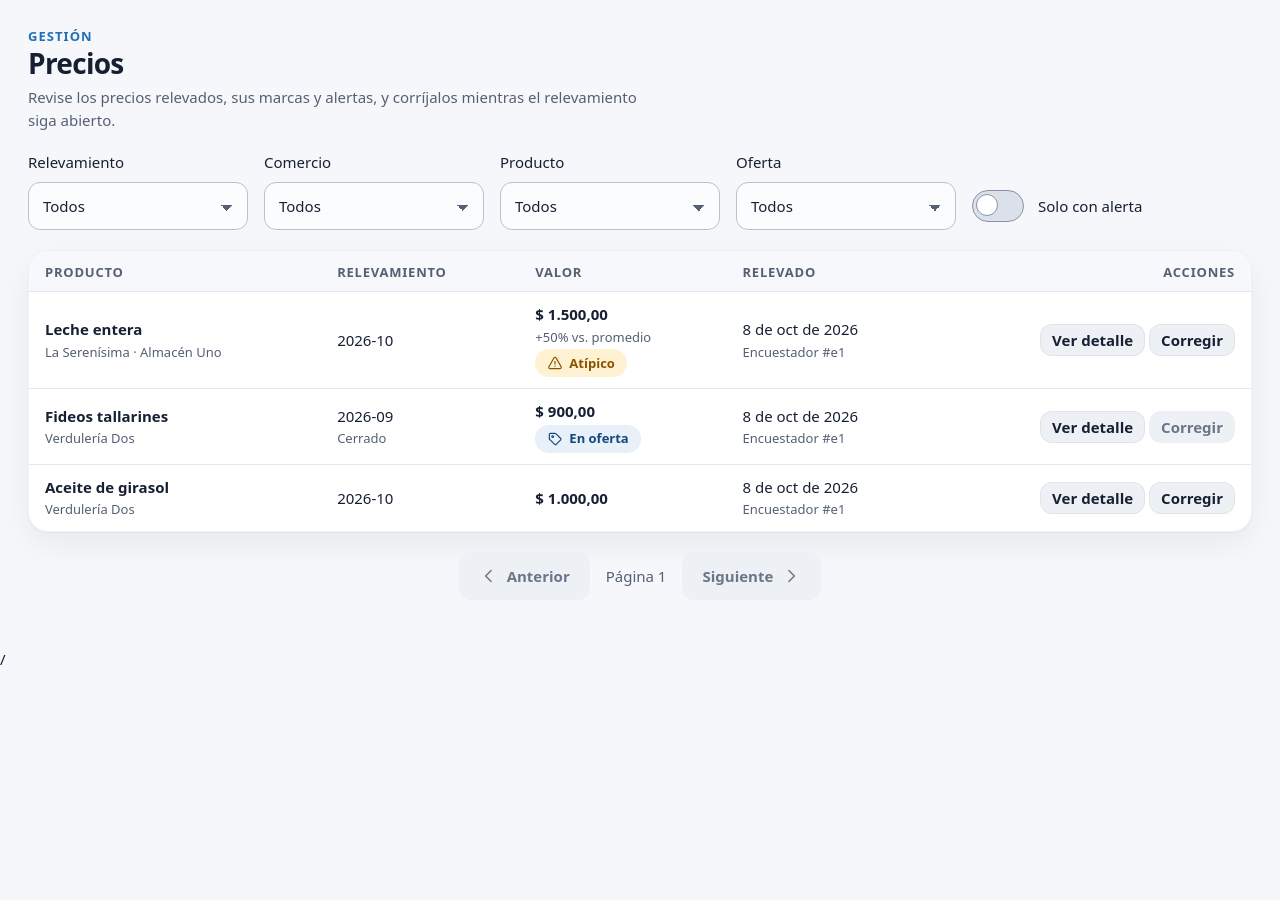
Test: correction › maps a 400 on valor back onto the field
This screenshot has width=1280, height=900.
Click the button "Corregir" in the row of "Leche entera".
click(1192, 340)  # box [1149, 324, 1235, 356]
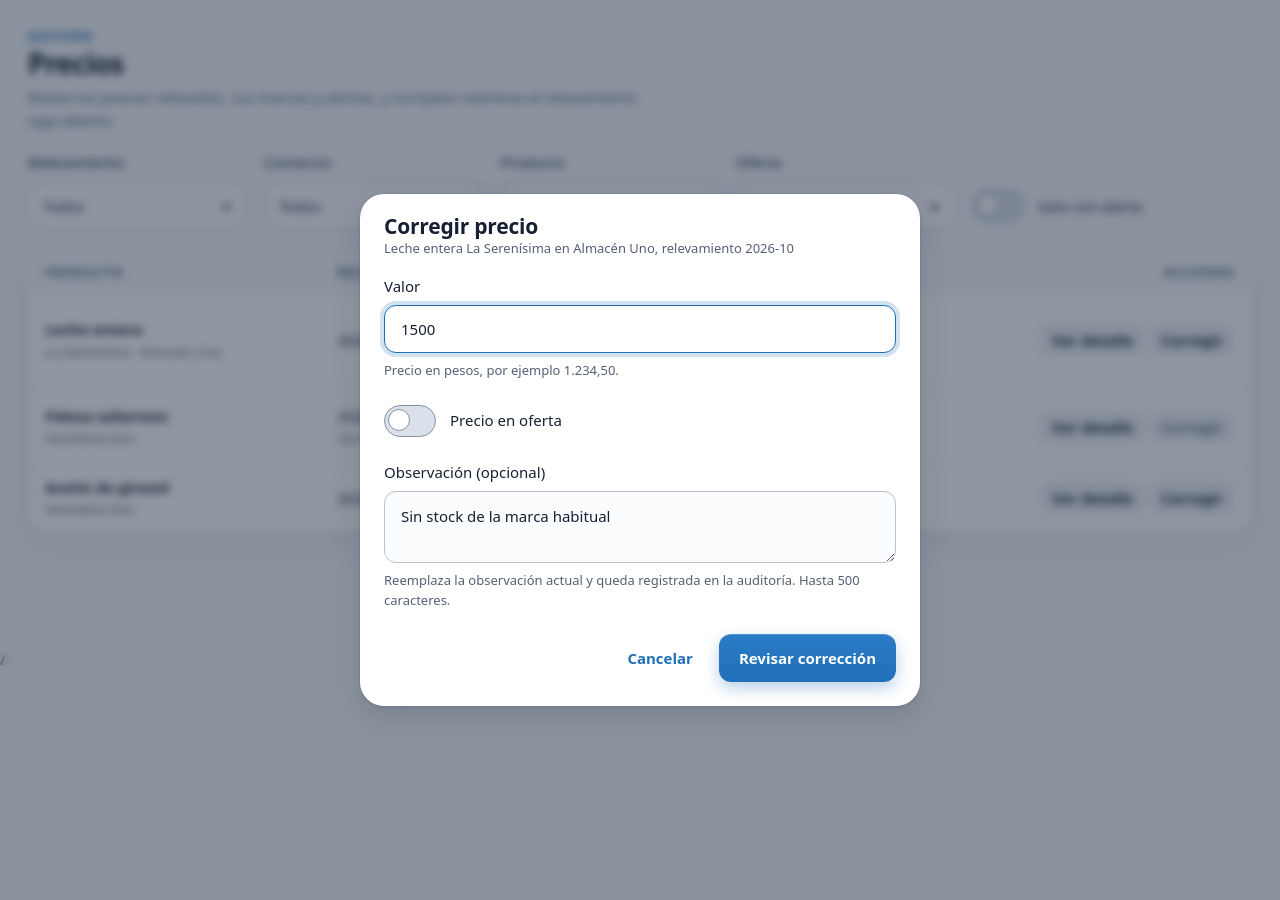
Replace the text in the field labelled "Valor" with "1200" at (640, 329), box [384, 305, 896, 353]
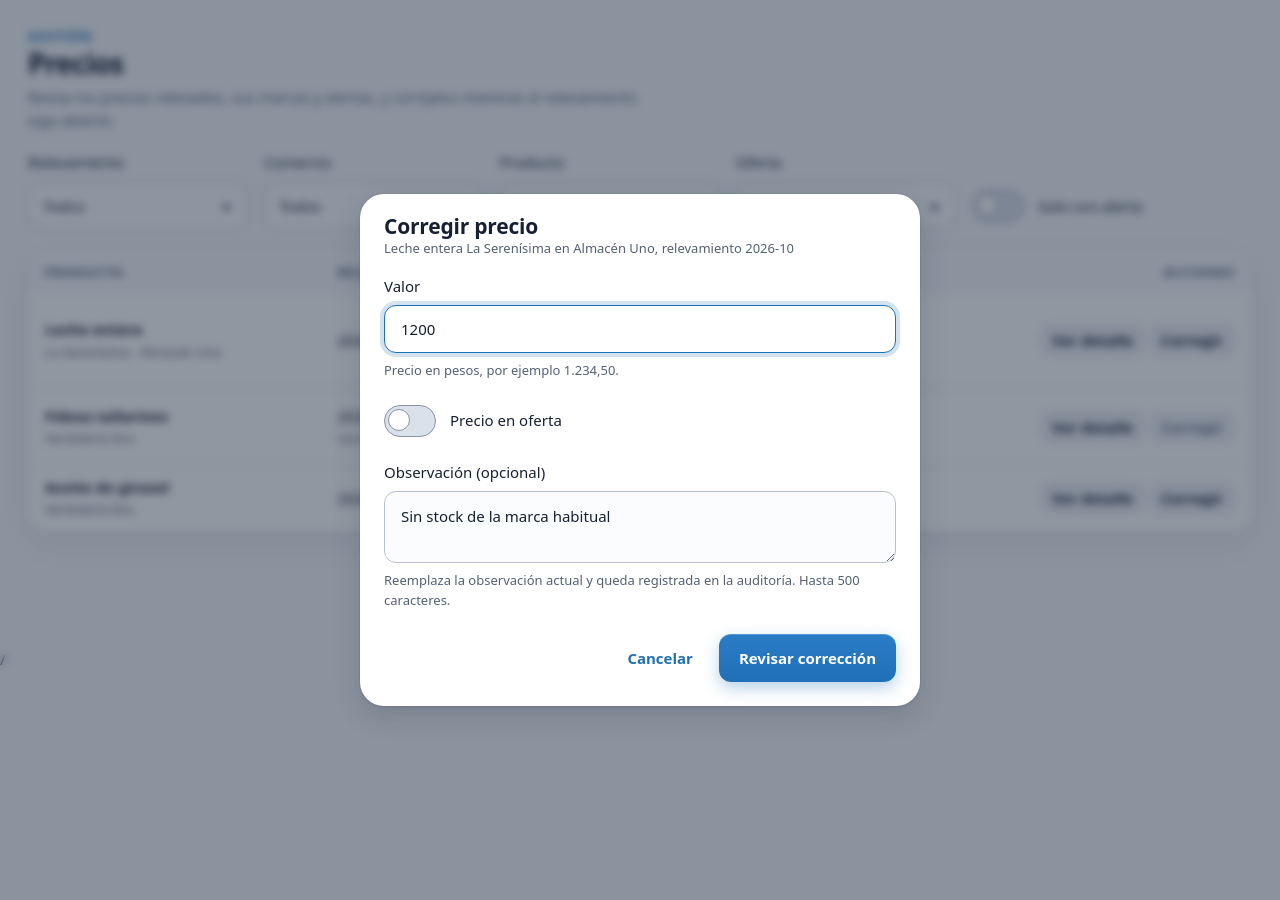
Click the button "Revisar corrección".
click(807, 658)  # box [719, 634, 896, 682]
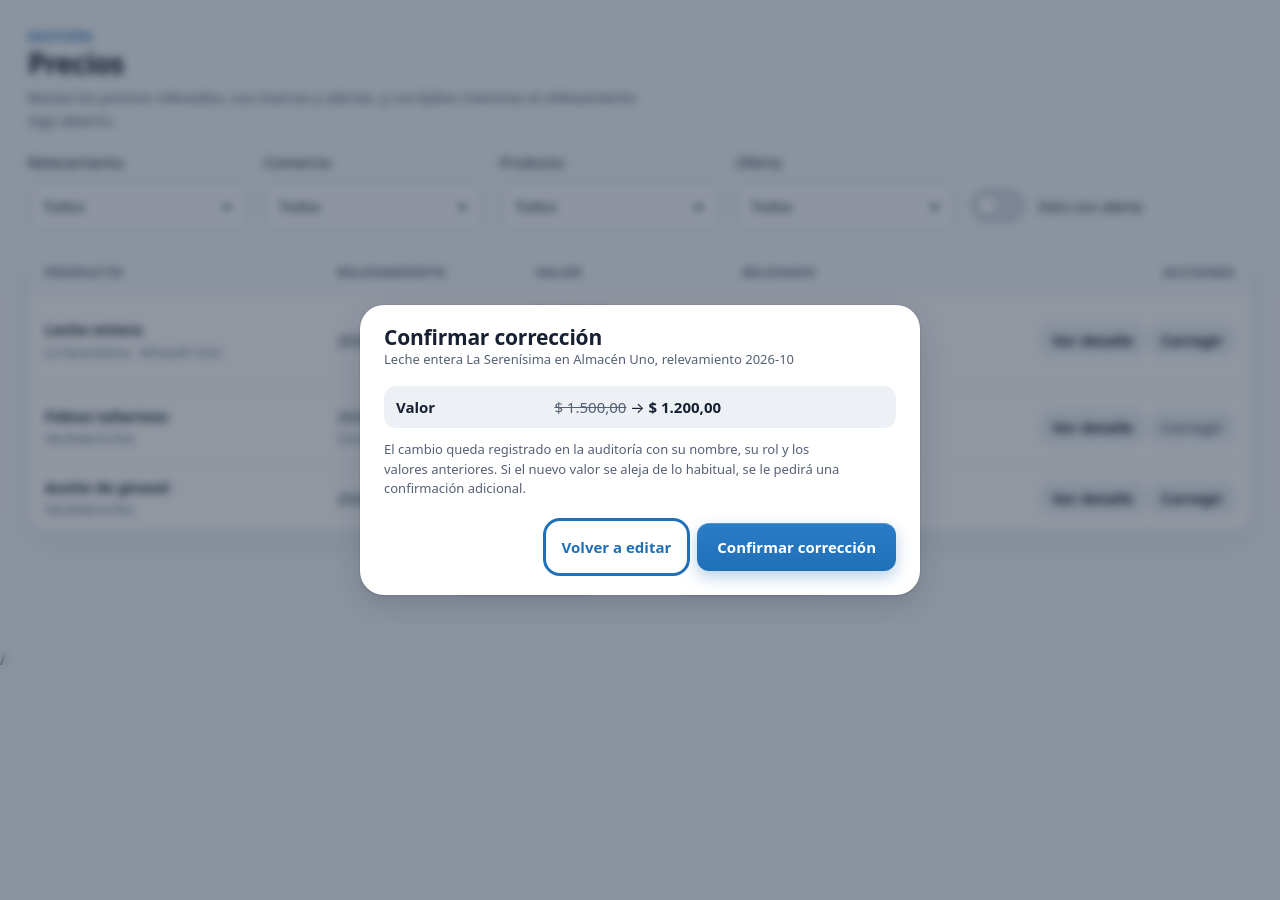
Click the button "Confirmar corrección".
click(797, 547)  # box [697, 523, 896, 571]
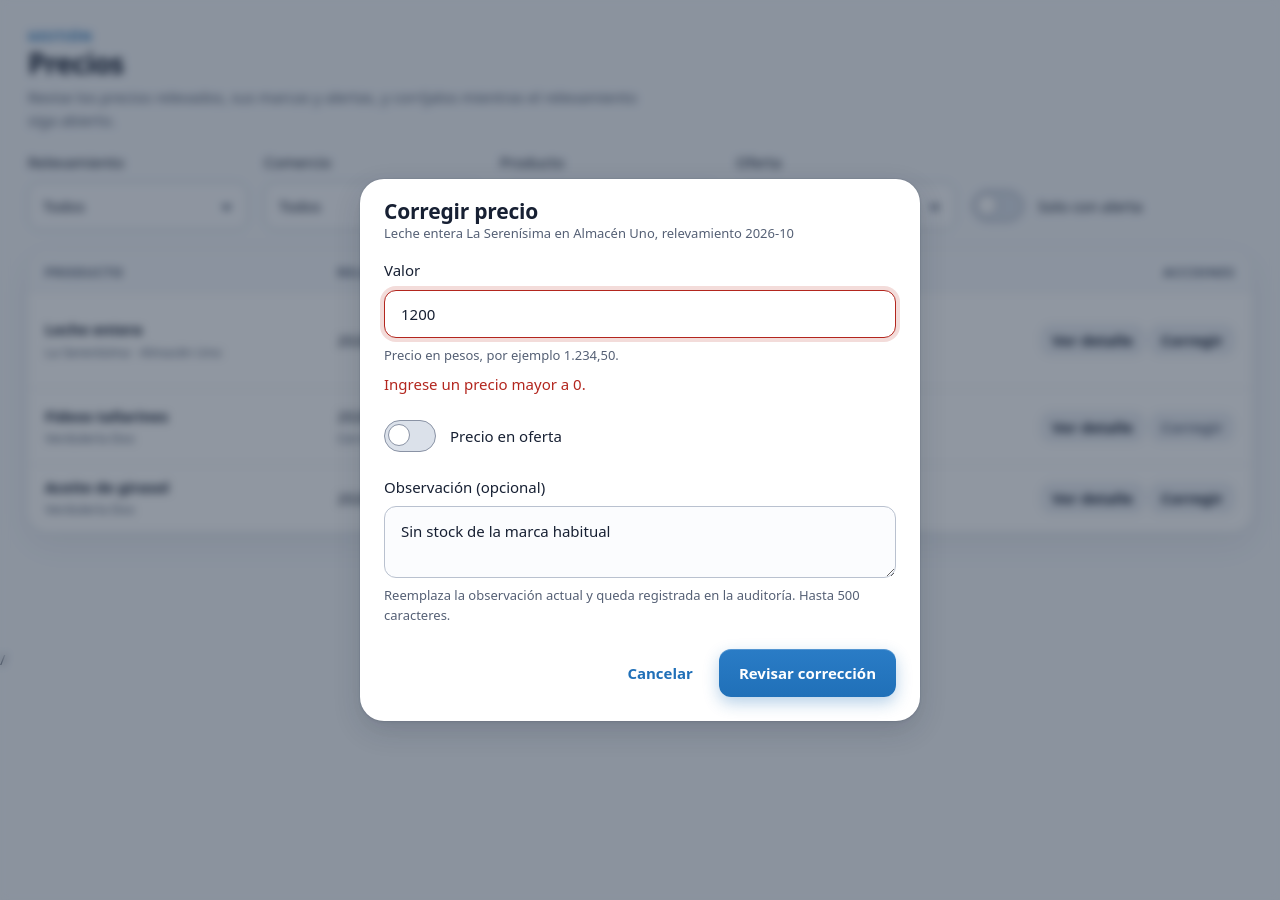
expect the text "Ingrese un precio mayor a 0." is shown: met, box [384, 374, 586, 394]
